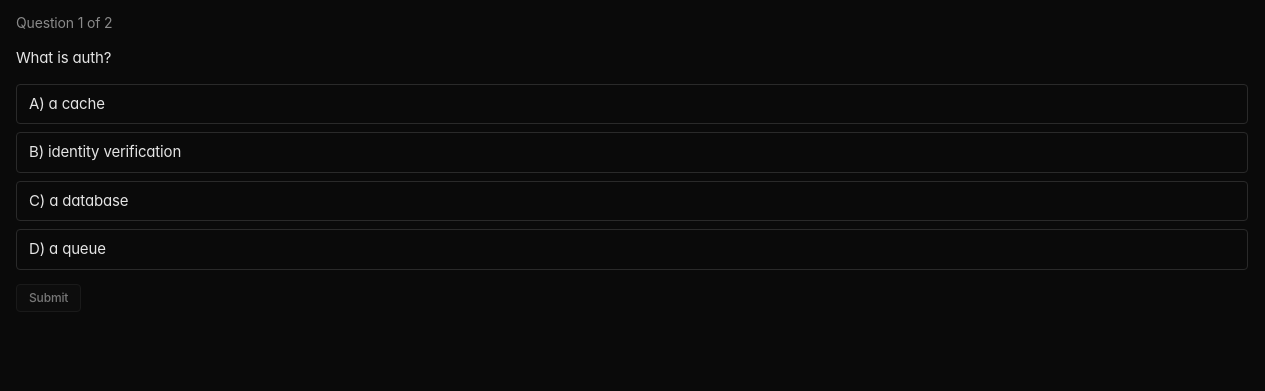
Test: QuizAnswering › summary fails when score is below the threshold
Q1 wrong
Click the button with test id "quiz-choice-A": (77, 103) x1=16 y1=84 x2=1248 y2=124
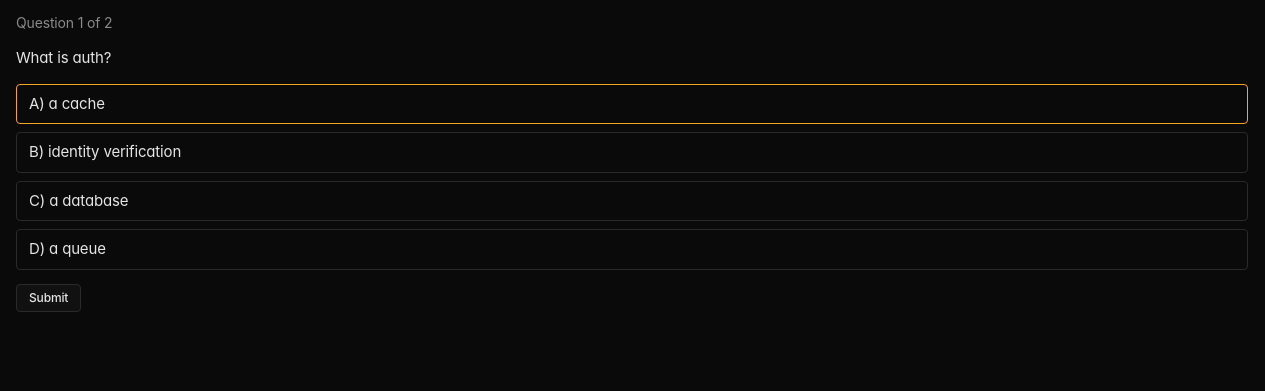
Click the button with test id "quiz-submit": (49, 298) x1=16 y1=284 x2=81 y2=312
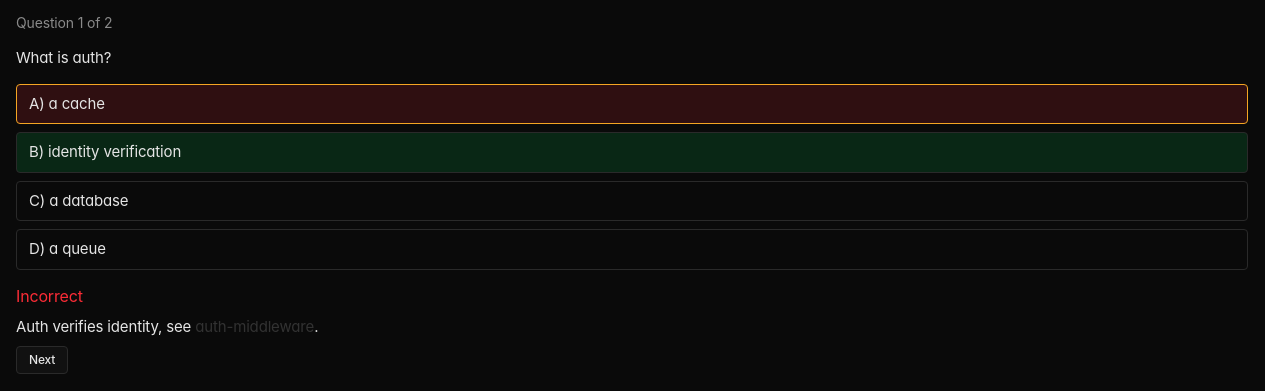
Click the button with test id "quiz-next": (42, 360) x1=16 y1=346 x2=68 y2=374
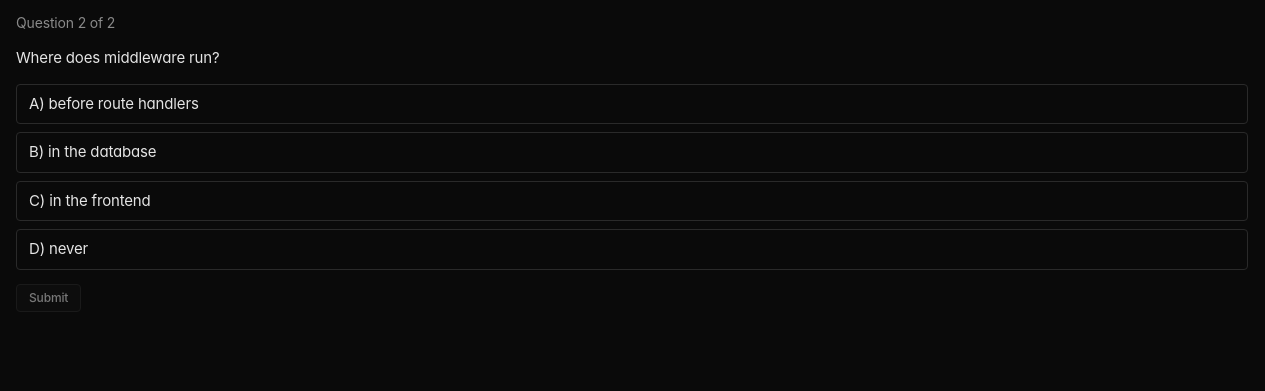
Q2 wrong
Click the button with test id "quiz-choice-B": (102, 152) x1=16 y1=132 x2=1248 y2=172
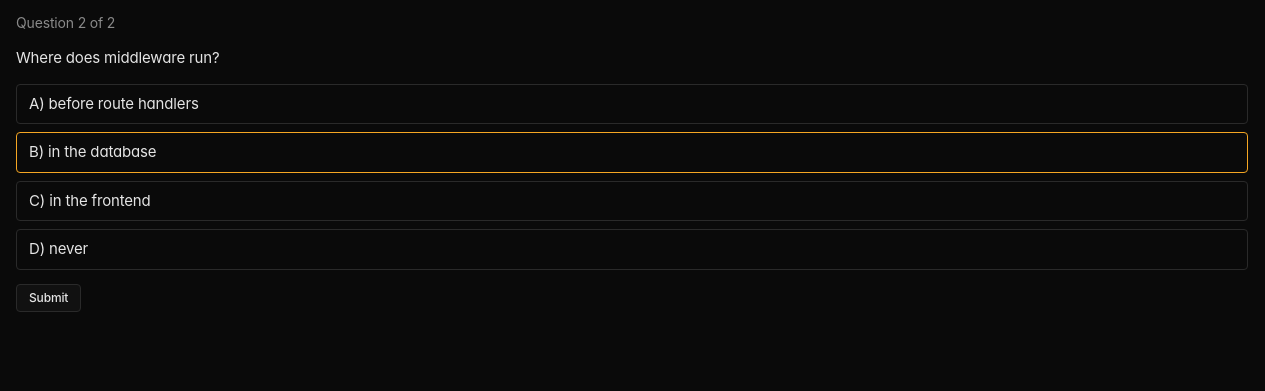
Click the button with test id "quiz-submit": (49, 298) x1=16 y1=284 x2=81 y2=312
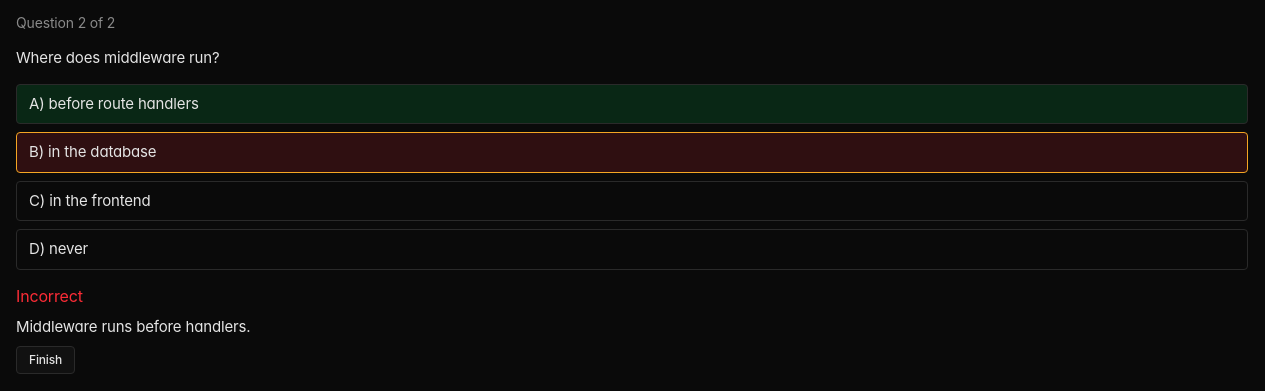
Click the button with test id "quiz-next": (46, 360) x1=16 y1=346 x2=75 y2=374
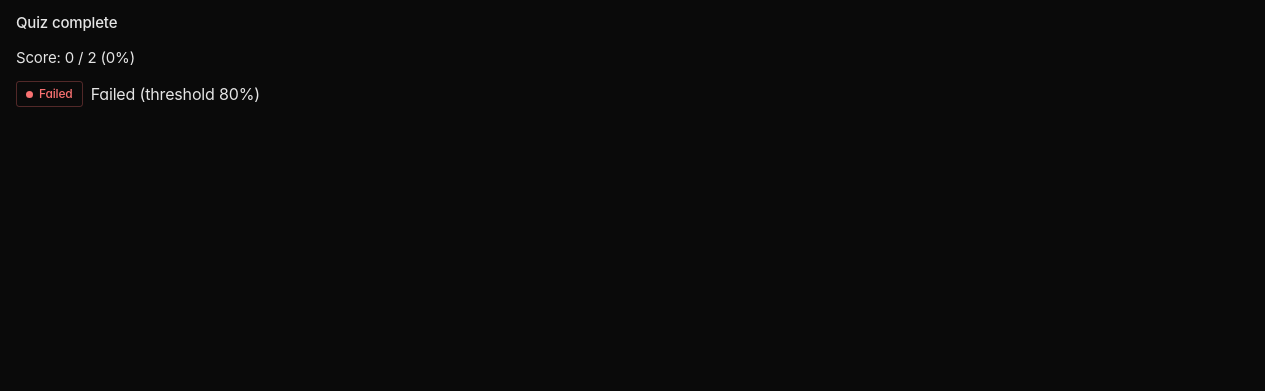
Result: the text with test id "quiz-score" shows "0 / 2" at x1=16 y1=48 x2=135 y2=66
Result: the element with test id "quiz-outcome" shows "Failed" at x1=39 y1=86 x2=73 y2=101
